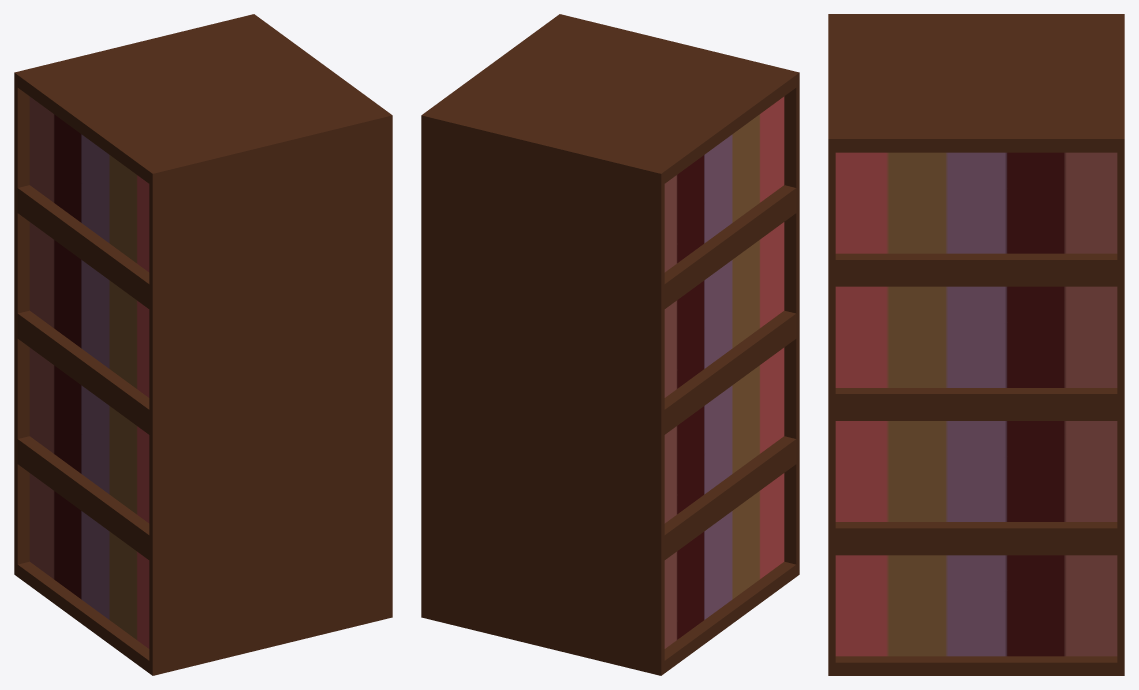
File: bookshelf.fbx
3 views of the same model, side by side, from view 1: azimuth 30°, elevation 25°; view 2: azimuth 150°, elevation 25°; view 3: azimuth 270°, elevation 25° (orthographic). The views are drawn at different scales.
Parts seen in each view (by area): view 1: Plane; view 2: Plane; view 3: Plane.
Part boxes in pixels (x1,y1,x2,y2): Plane: (14, 14, 392, 675); Plane: (421, 14, 799, 675); Plane: (828, 14, 1124, 675).
Bounding box in the file's own units: 100 × 200 × 100.
2 materials, 1 textured.
